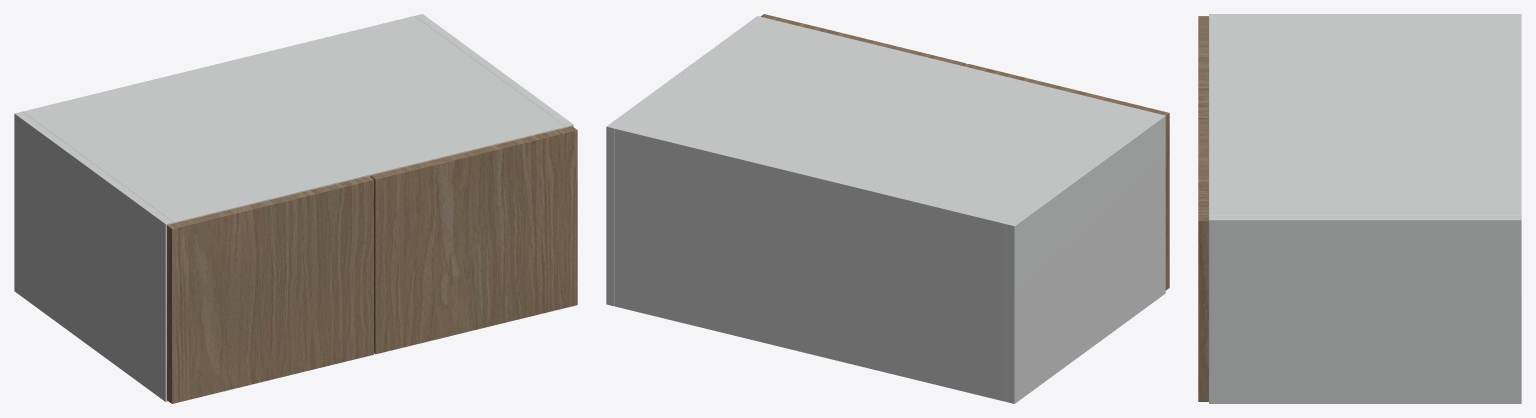
Rendered from oppein-pb-mnw-w361524.glb.
3 views of the same model, side by side, from view 1: azimuth 30°, elevation 25°; view 2: azimuth 150°, elevation 25°; view 3: azimuth 270°, elevation 25° (orthographic). The views are drawn at different scales.
Visible parts, largest first — view 1: Cabinet top, Door, Door.001, Cabinet side, Cabinet side.001, Cabinet back; view 2: Cabinet back, Cabinet top, Cabinet side, Cabinet side.001, Door, Cabinet bottom, Door.001; view 3: Cabinet top, Cabinet side.001, Door.001, Cabinet back, Cabinet side, Door.
Boxes of the visible parts, left/top/right/bottom form: Cabinet top: left=23, top=16, right=565, bottom=223; Door: left=167, top=176, right=373, bottom=403; Door.001: left=370, top=126, right=577, bottom=354; Cabinet side: left=14, top=111, right=173, bottom=401; Cabinet side.001: left=415, top=14, right=573, bottom=127; Cabinet back: left=23, top=16, right=416, bottom=113; Cabinet back: left=614, top=126, right=1006, bottom=401; Cabinet top: left=614, top=18, right=1157, bottom=231; Cabinet side: left=1006, top=113, right=1165, bottom=403; Cabinet side.001: left=606, top=16, right=764, bottom=306; Door: left=964, top=63, right=1169, bottom=290; Cabinet bottom: left=616, top=306, right=1005, bottom=401; Door.001: left=761, top=14, right=965, bottom=66; Cabinet top: left=1209, top=18, right=1521, bottom=215; Cabinet side.001: left=1209, top=216, right=1521, bottom=403; Door.001: left=1198, top=119, right=1208, bottom=401; Cabinet back: left=1515, top=18, right=1521, bottom=215; Cabinet side: left=1209, top=14, right=1521, bottom=17; Door: left=1198, top=16, right=1208, bottom=118.
Bounding box in the file's own units: 0.9144 × 0.381 × 0.6064.
2 materials, 1 textured.
